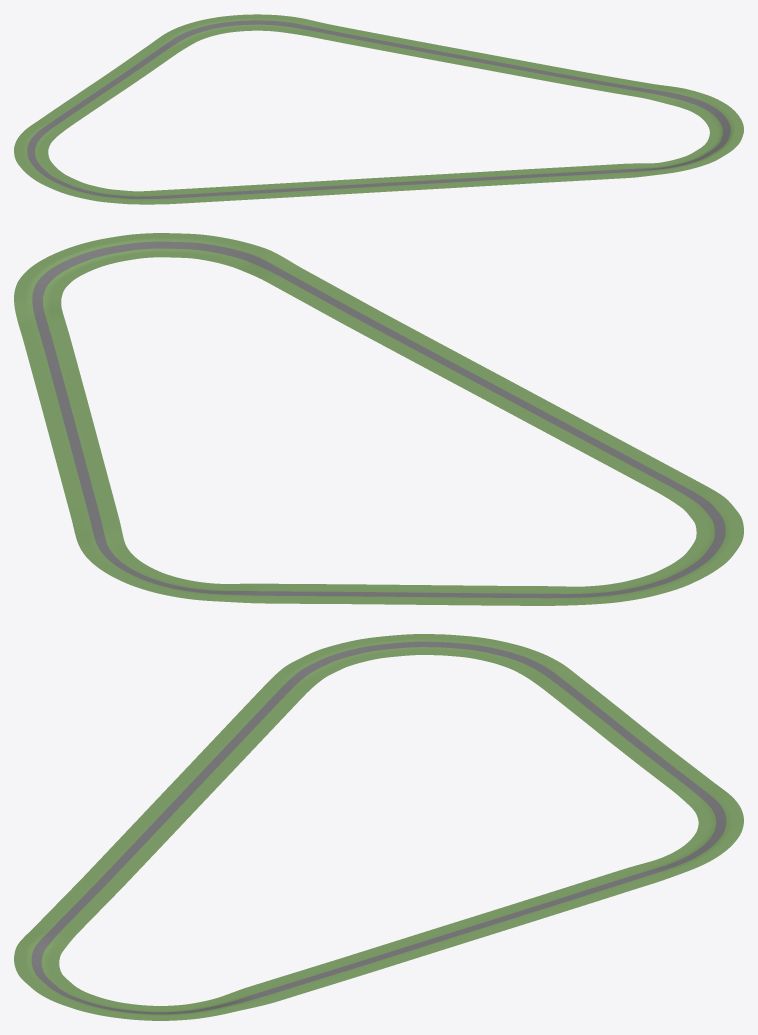
File: road_mesh.glb
3 views of the same model, one above another, from view 1: azimuth 30°, elevation 25°; view 2: azimuth 150°, elevation 25°; view 3: azimuth 270°, elevation 25° (orthographic). The views are drawn at different scales.
Parts seen in each view (by area): view 1: road_06, road_12, road_13, road_07, road_10, road_11, road_08, road_09, road_01, road_21, road_15, road_14 (+11 smaller); view 2: road_04, road_05, road_03, road_06, road_07, road_01, road_21, road_20, road_02, road_15, road_00, road_22 (+11 smaller); view 3: road_18, road_19, road_17, road_15, road_20, road_21, road_03, road_01, road_16, road_10, road_14, road_00 (+11 smaller).
Boxes of the visible parts, x1,y1,x2,y2 form: road_06: (657,86,734,119); road_12: (231,14,316,35); road_13: (160,15,238,46); road_07: (586,74,670,101); road_10: (374,35,457,62); road_11: (303,21,386,48); road_08: (515,62,598,88); road_09: (445,48,528,75); road_01: (433,170,514,188); road_21: (204,183,285,201); road_15: (79,65,148,100); road_14: (120,37,187,73); road_04: (148,233,265,267); road_05: (43,233,152,275); road_03: (235,248,334,298); road_06: (14,259,79,311); road_07: (15,309,74,357); road_01: (363,322,466,369); road_21: (560,427,662,475); road_20: (626,463,727,509); road_02: (298,286,399,334); road_15: (337,584,445,604); road_00: (429,357,531,404); road_22: (495,392,596,439); road_18: (386,634,501,659); road_19: (291,636,395,676); road_17: (481,641,579,686); road_15: (588,715,676,763); road_20: (246,663,326,712); road_21: (207,705,287,753); road_03: (16,907,95,954); road_01: (93,826,172,874); road_16: (540,677,627,724); road_10: (474,890,583,931); road_14: (637,754,725,801); road_00: (131,786,210,833).
Size of the model in its own units: 1565 by 9.98 by 1250.
